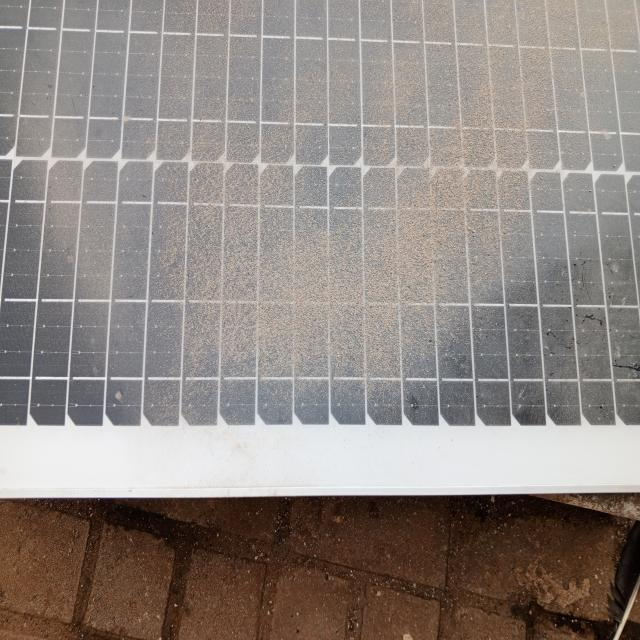Anomaly Solar Panel: (7, 2, 636, 426)
Surface Contaminant: (7, 2, 636, 426)
